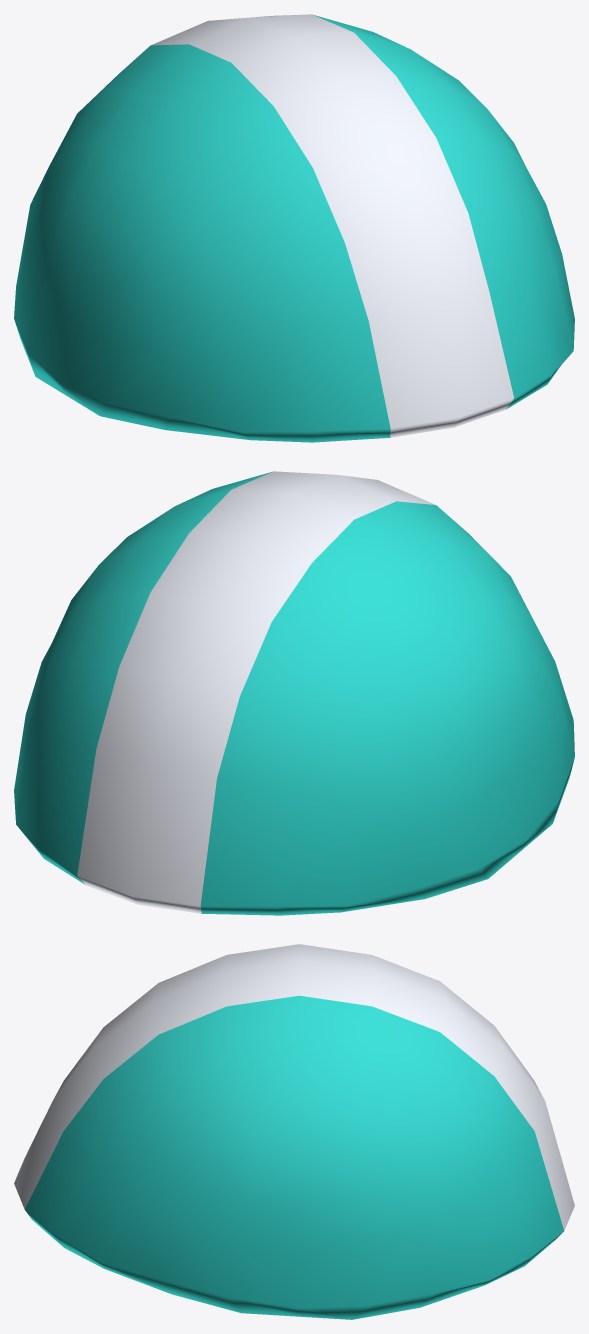
The model's file is shiper_hat.fbx.
3 renders of one model, top to bottom at view 1: azimuth 30°, elevation 25°; view 2: azimuth 150°, elevation 25°; view 3: azimuth 270°, elevation 25°, orthographic. The views are drawn at different scales.
Parts seen in each view (by area): view 1: shiper_hat; view 2: shiper_hat; view 3: shiper_hat.
Part boxes in pixels (<box>): shiper_hat: <box>14,14,574,442</box>; shiper_hat: <box>14,471,574,915</box>; shiper_hat: <box>14,944,574,1319</box>.
Bounding box in the file's own units: 1.53 × 0.971 × 1.86.
